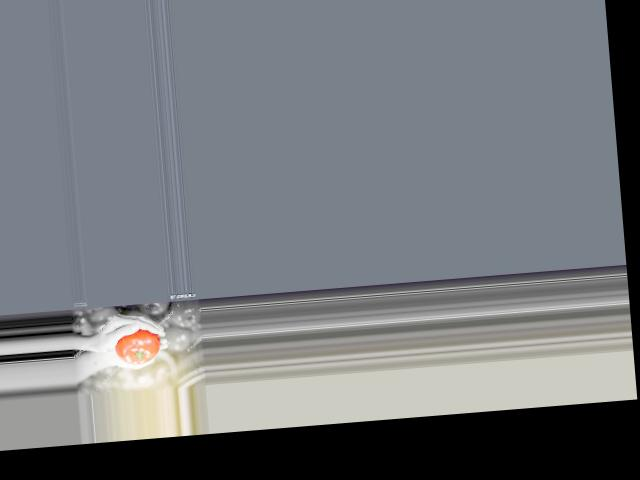tomato: (113, 327, 161, 365)
